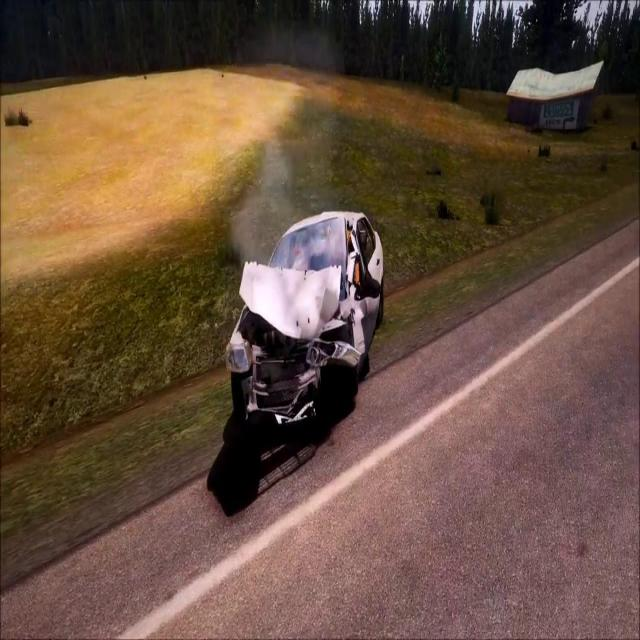accident: (205, 206, 388, 520)
